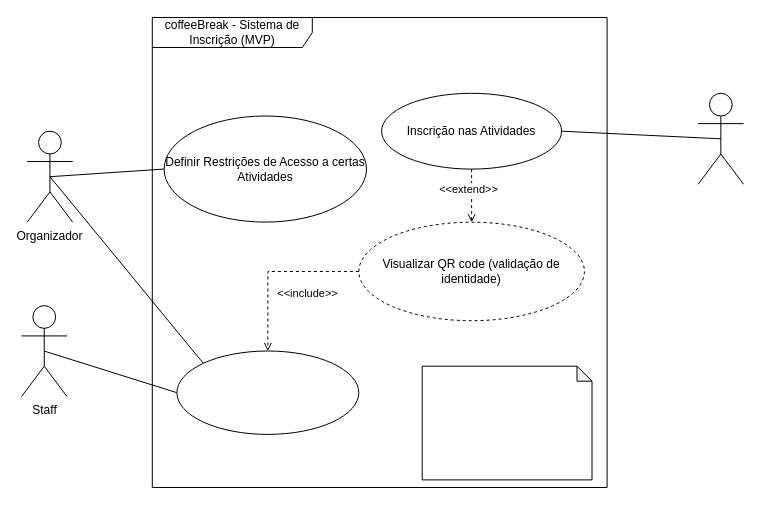
This 770x505 diagram has some shape labels left out. The shapes that lost their labels are listed below. From the top down, each one's centre as x and y in pixels, then its label:
At (720,138): "Participante".
At (267,392): "Validar QR code".
At (506,422): "Tercerização de pagamento / aprovação".
